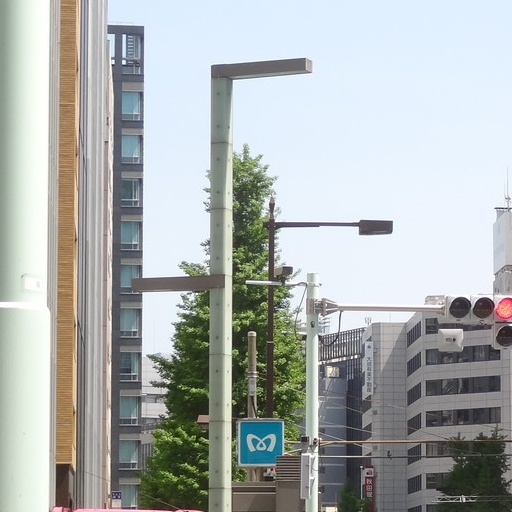Traffic_Signal_Red: (433, 294, 511, 327)
